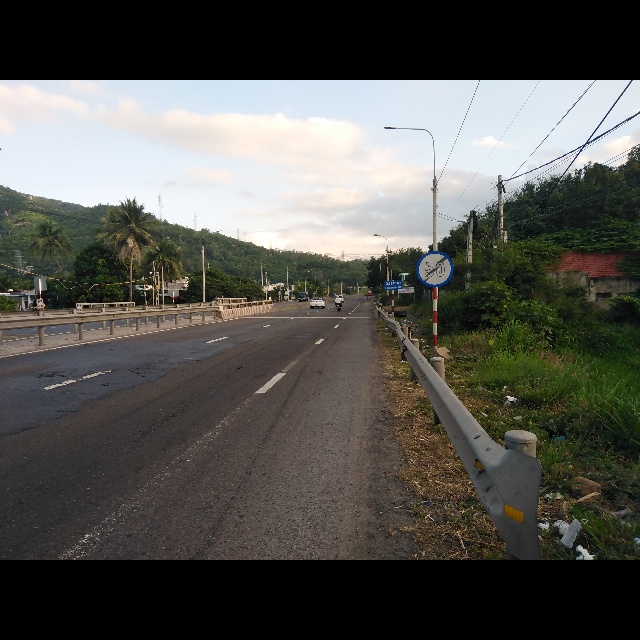Hết hạn chế tốc độ tối đa 50km/h: (415, 250, 454, 288)
